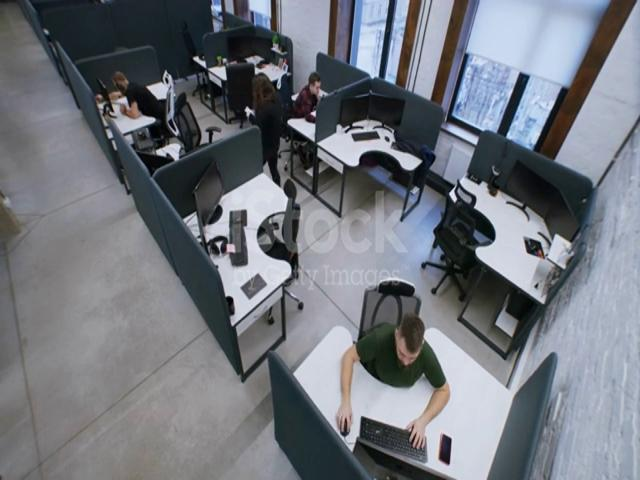empty chair: (434, 180, 477, 291), (279, 173, 314, 308), (174, 92, 226, 152), (169, 15, 208, 76), (226, 53, 252, 117)
occupiedchair: (356, 272, 436, 396), (104, 58, 174, 141), (288, 54, 338, 164)
